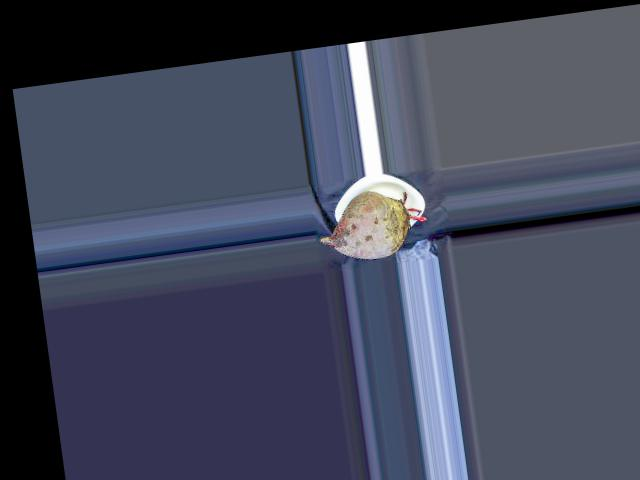beet: (315, 184, 430, 264)
